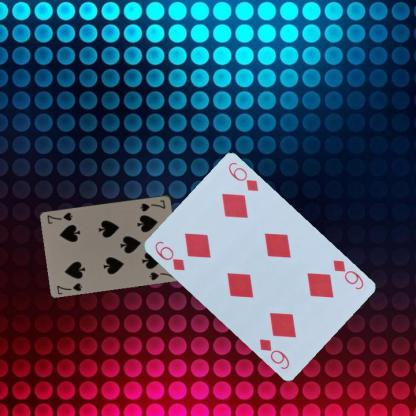6d: (151, 238, 186, 273), (330, 257, 364, 291)
7s: (54, 280, 84, 295), (138, 197, 166, 213)
